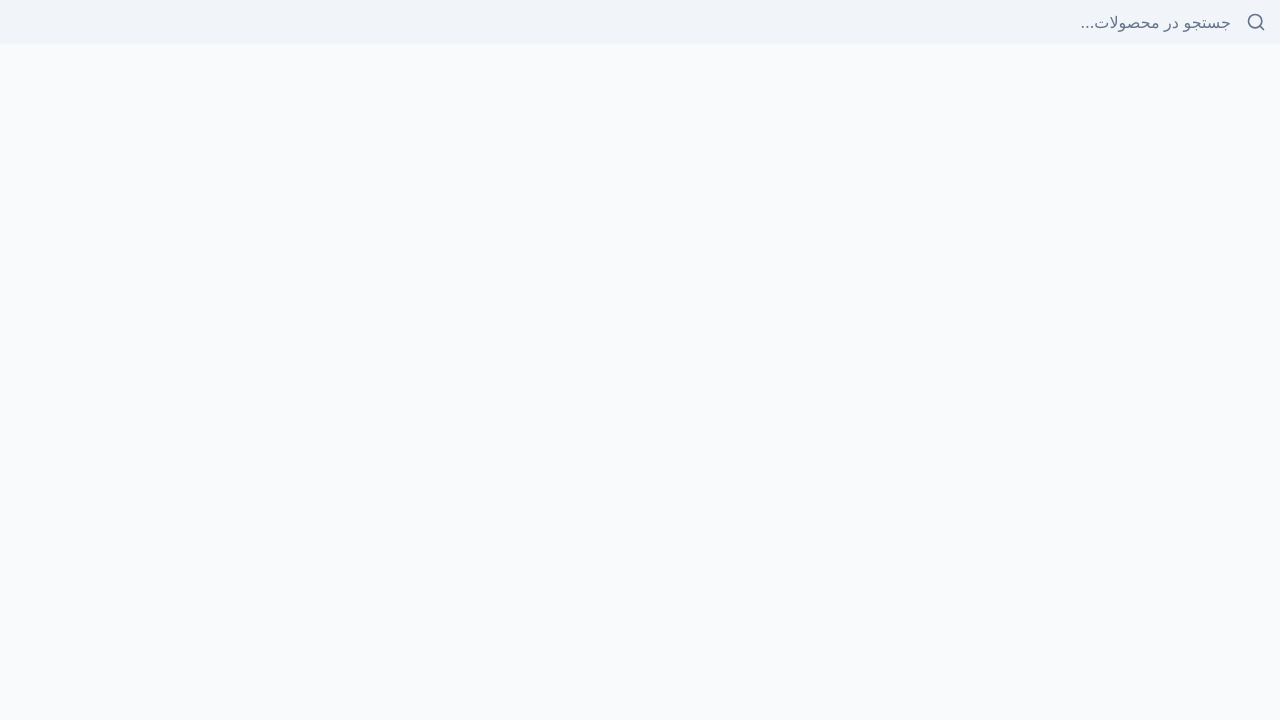
Test: the header search on phones › shows the recent searches while its field is empty
This screenshot has width=1280, height=720.
Click the search field labelled "جستجو" at (640, 22), box [0,0,1279,44]
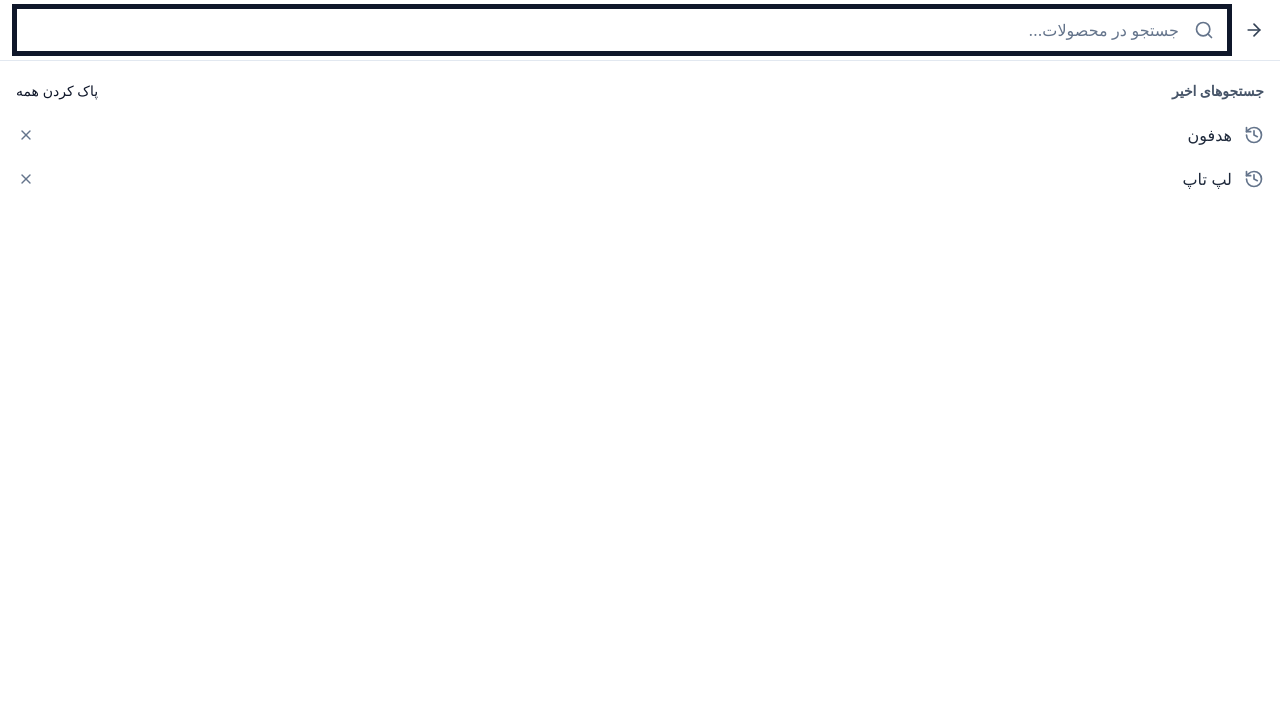
Result: the options read "هدفون", "لپ تاپ", in this order at [1188,125,1264,145]; [1182,169,1264,189]
